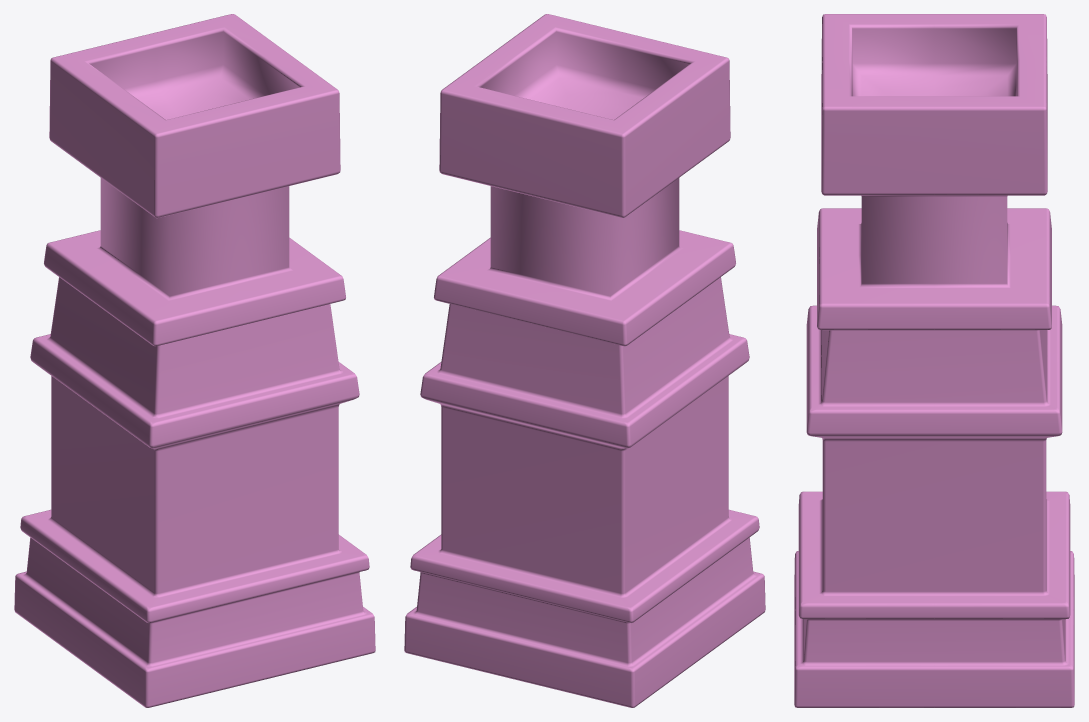
Rendered from Pillar_LD.fbx.
3 renders of one model, left to right at view 1: azimuth 30°, elevation 25°; view 2: azimuth 150°, elevation 25°; view 3: azimuth 270°, elevation 25°, orthographic. The views are drawn at different scales.
Parts seen in each view (by area): view 1: Box001; view 2: Box001; view 3: Box001.
Boxes of the visible parts, left/top/right/bottom form: Box001: left=14, top=14, right=375, bottom=707; Box001: left=404, top=14, right=765, bottom=707; Box001: left=794, top=14, right=1074, bottom=707.
Size of the model in its own units: 54.89 by 127 by 54.89.
